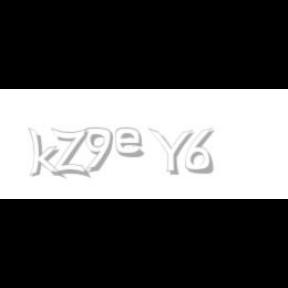6: (184, 128, 214, 176)
9: (84, 128, 114, 172)
Y: (148, 128, 194, 176)
Z: (52, 128, 88, 178)
e: (115, 128, 148, 158)
k: (28, 128, 66, 180)
